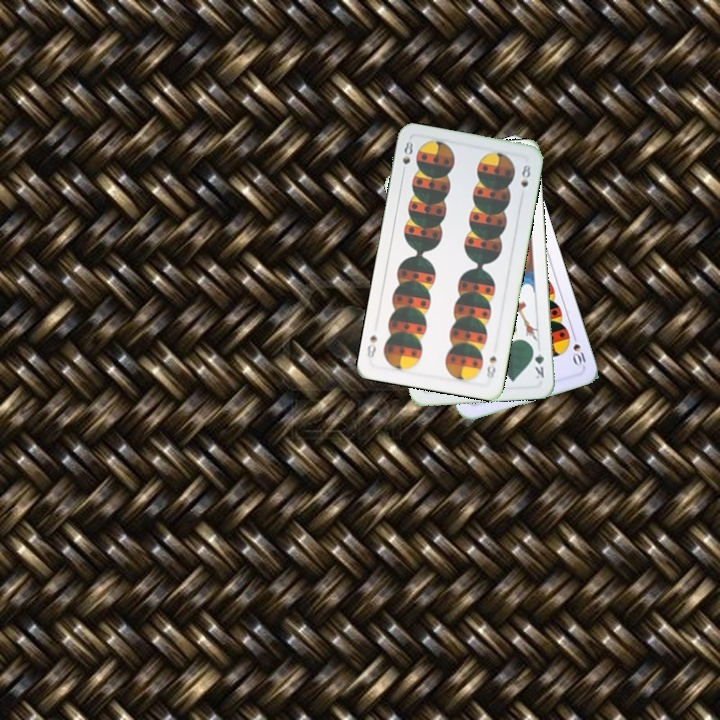GK: (529, 342, 547, 382)
S10: (564, 329, 589, 369)
S8: (398, 137, 415, 177), (482, 352, 499, 382)
